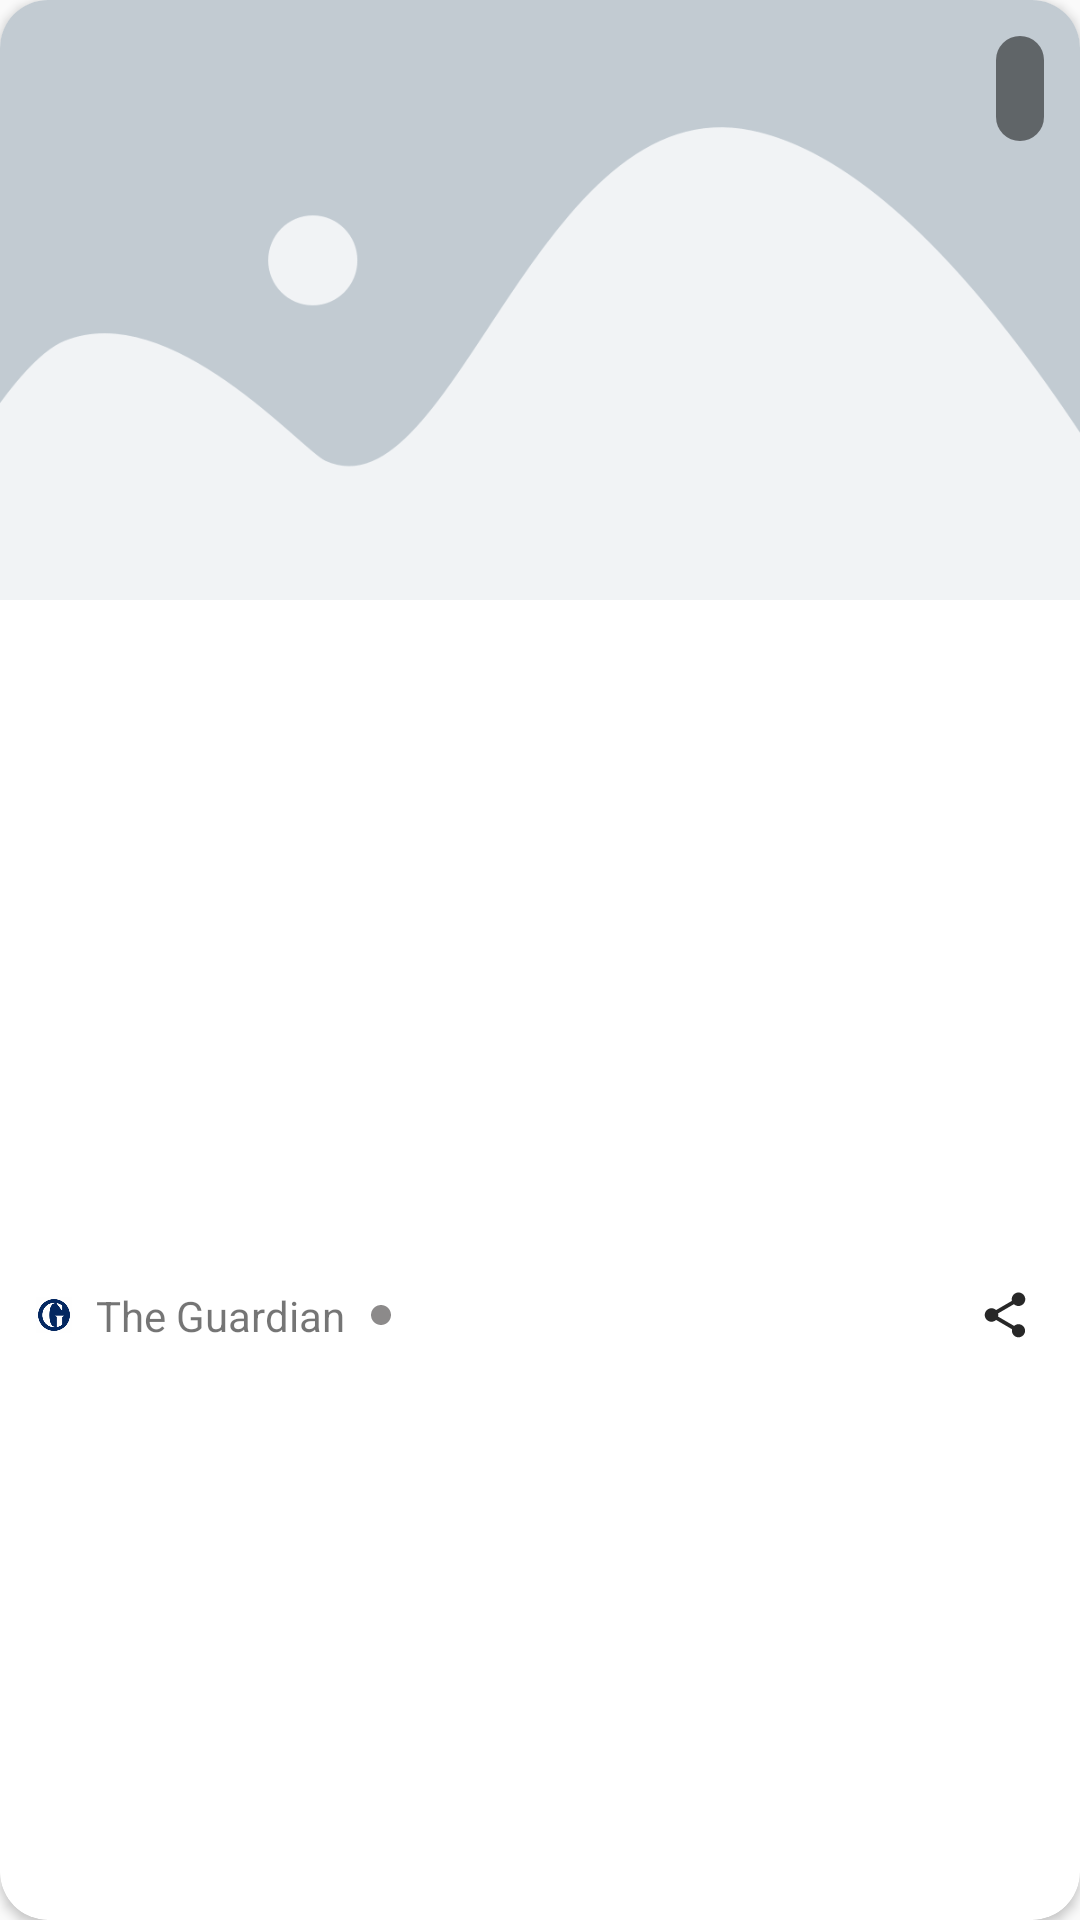

Named icons in this screenshot (1080x1920) and their centers, point (x, y):
share button: point (1005, 1315)
